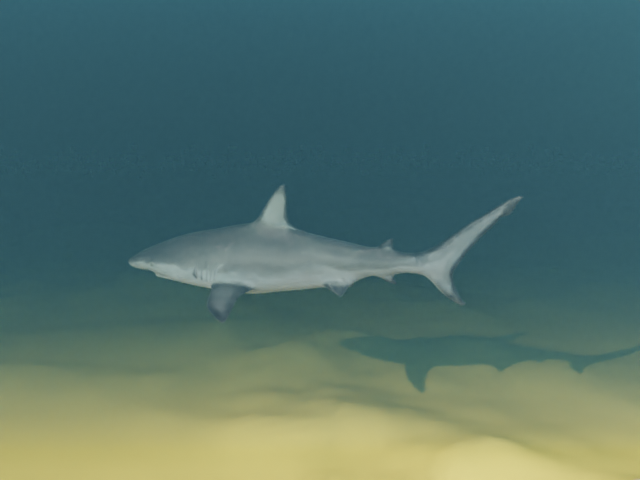Carribean Shark.001: (128, 184, 523, 322)
